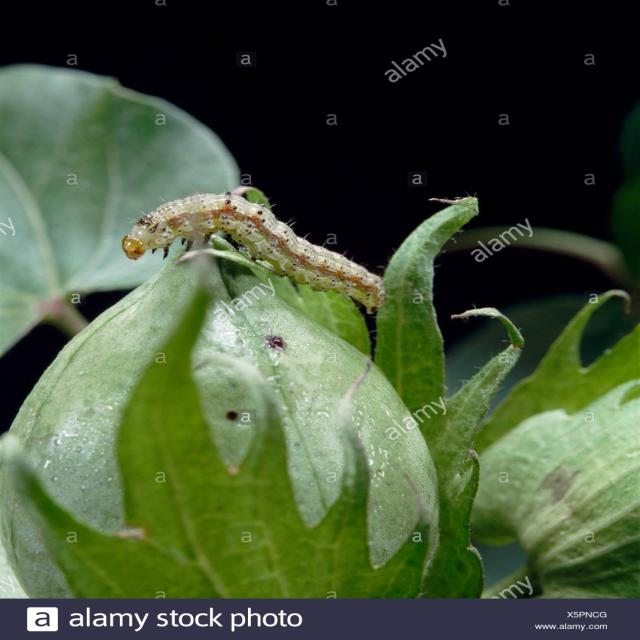Corn-earworm: (126, 184, 402, 313)
